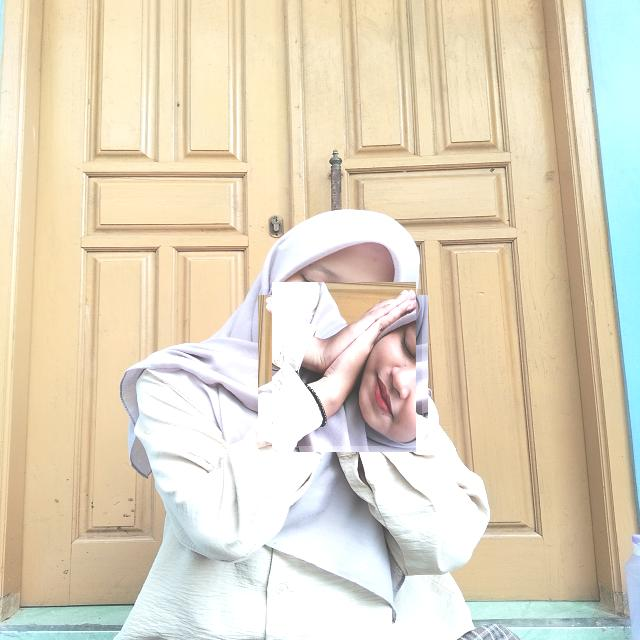tidur: (265, 289, 422, 446)
